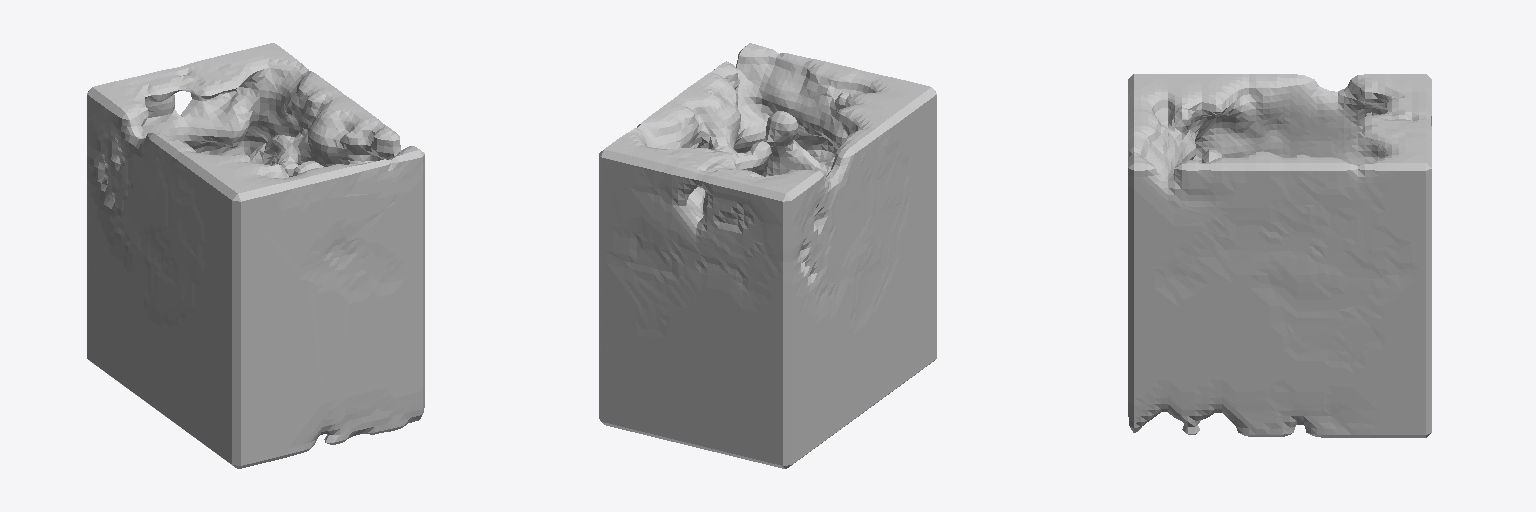
3 views of the same model, side by side, from view 1: azimuth 30°, elevation 25°; view 2: azimuth 150°, elevation 25°; view 3: azimuth 270°, elevation 25° (orthographic).
Visible parts, largest first — view 1: Liquid_Domain; view 2: Liquid_Domain; view 3: Liquid_Domain.
Boxes of the visible parts, box(x1,y1,x2,y2) form: Liquid_Domain: box(87, 43, 424, 468); Liquid_Domain: box(599, 43, 936, 468); Liquid_Domain: box(1128, 74, 1431, 437).
Size of the model in its own units: 79.11 by 108 by 108.